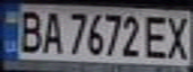2: (121, 11, 145, 58)
6: (84, 10, 106, 57)
7: (63, 9, 87, 55), (103, 10, 124, 57)
A: (39, 8, 66, 55)
B: (15, 7, 45, 54)
E: (142, 12, 172, 61)
X: (163, 12, 193, 61)
